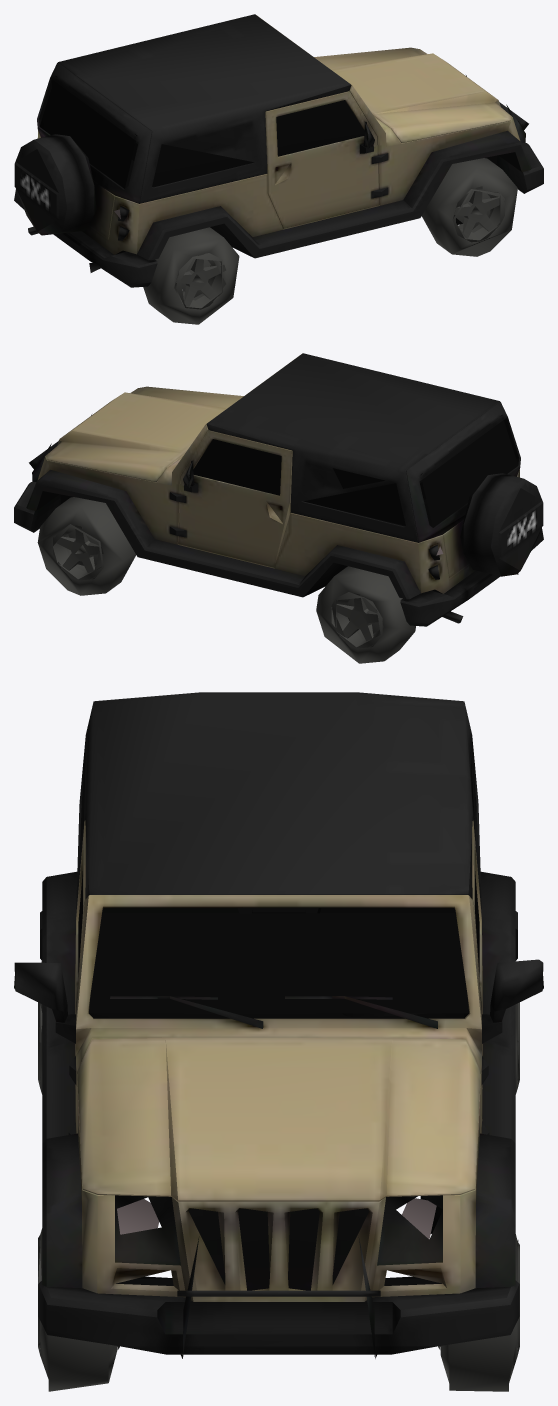
Rendered from pc-offroad-beige.lod1.glb.
3 renders of one model, top to bottom at view 1: azimuth 30°, elevation 25°; view 2: azimuth 150°, elevation 25°; view 3: azimuth 270°, elevation 25°, orthographic. The views are drawn at different scales.
Parts seen in each view (by area): view 1: Offroad Body_Body_0, Wheel_G_Wheel_0; view 2: Offroad Body_Body_0, Wheel_G_Wheel_0; view 3: Offroad Body_Body_0, Wheel_G_Wheel_0.
Boxes of the visible parts, <box> form: Offroad Body_Body_0: <box>14,14,543,287</box>; Wheel_G_Wheel_0: <box>39,76,517,324</box>; Offroad Body_Body_0: <box>14,353,543,626</box>; Wheel_G_Wheel_0: <box>37,415,518,663</box>; Offroad Body_Body_0: <box>14,692,543,1358</box>; Wheel_G_Wheel_0: <box>38,752,519,1391</box>.
Bounding box in the file's own units: 3.9 × 1.57 × 1.95.
Materials: 2 (1 with a texture image).
